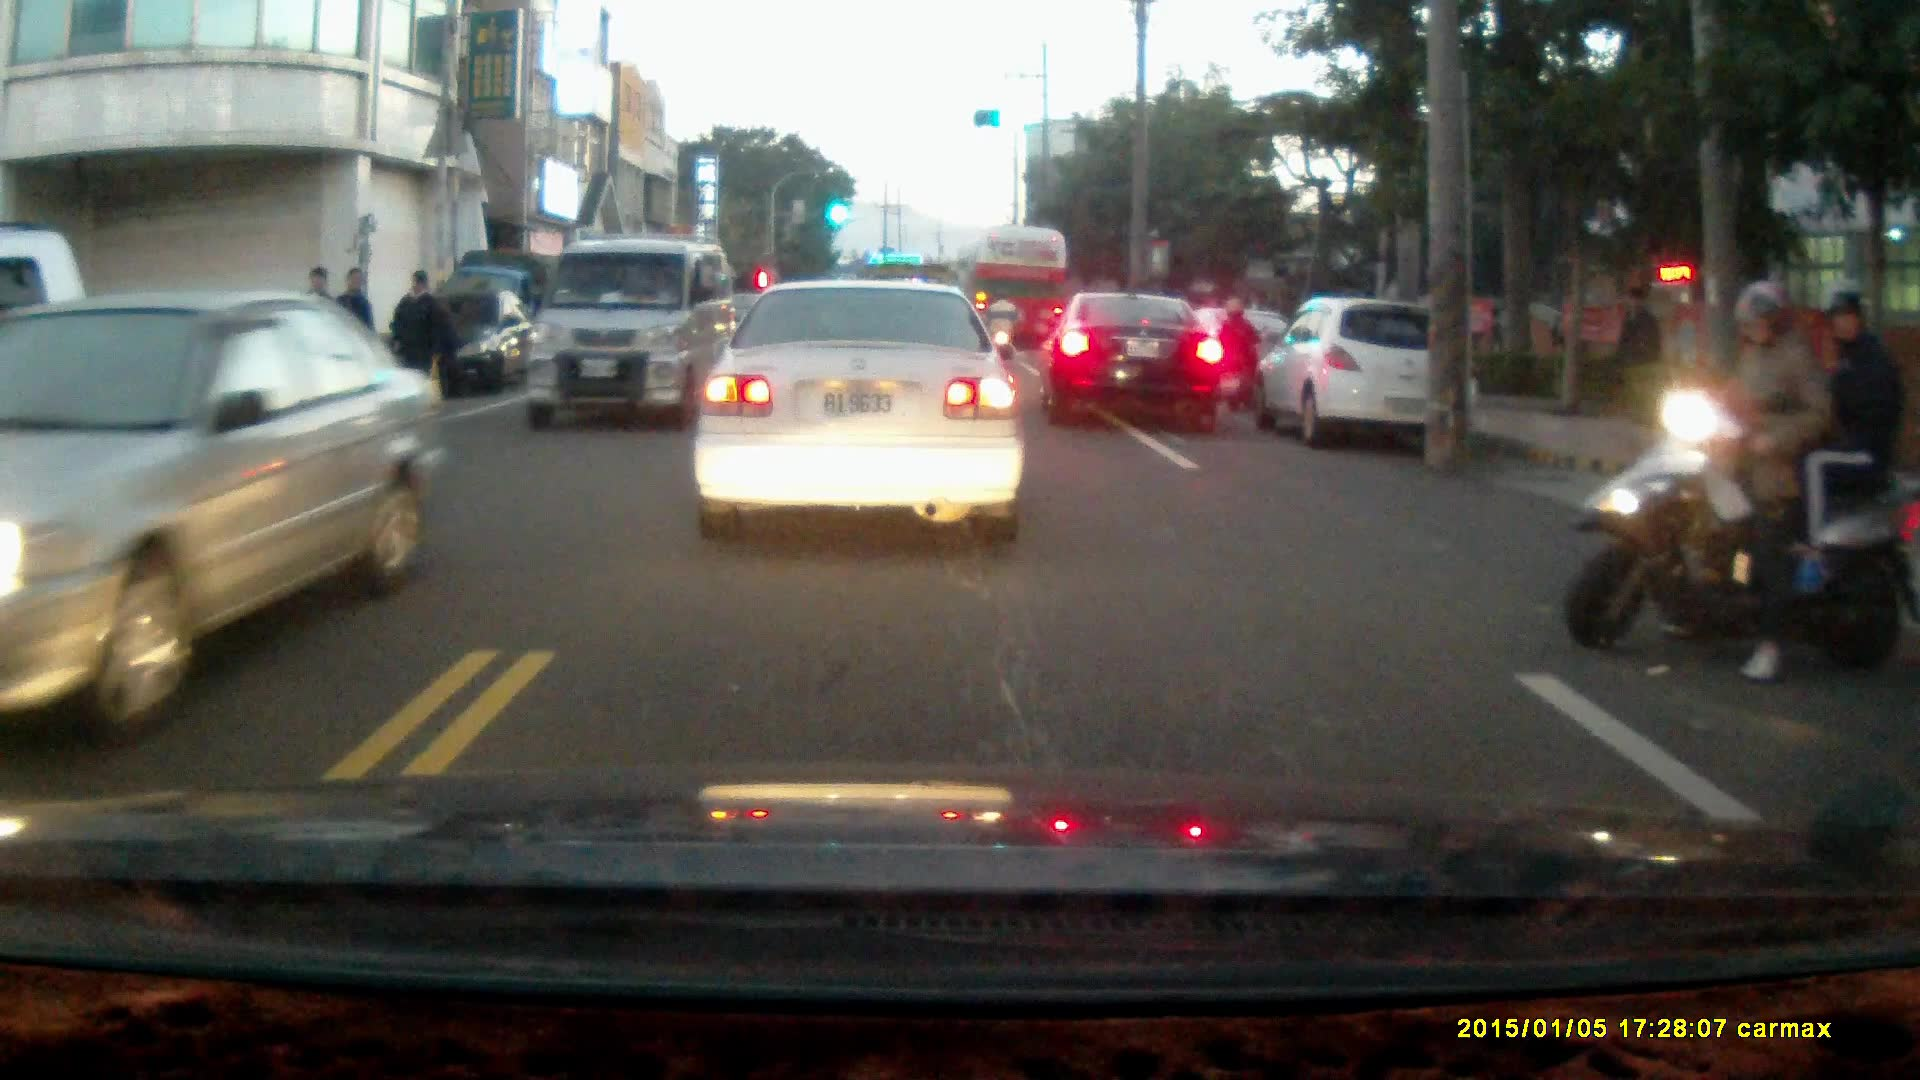pedestrian: (317, 263, 374, 441), (387, 268, 444, 417), (1616, 285, 1669, 419)
rider: (1562, 282, 1920, 685), (1215, 295, 1266, 413), (983, 290, 1022, 371)
vehicle: (1, 291, 475, 752), (690, 278, 1030, 550), (523, 236, 741, 434), (1250, 296, 1481, 451), (1, 222, 108, 504), (1041, 297, 1231, 436), (379, 284, 544, 399), (973, 224, 1072, 368)
